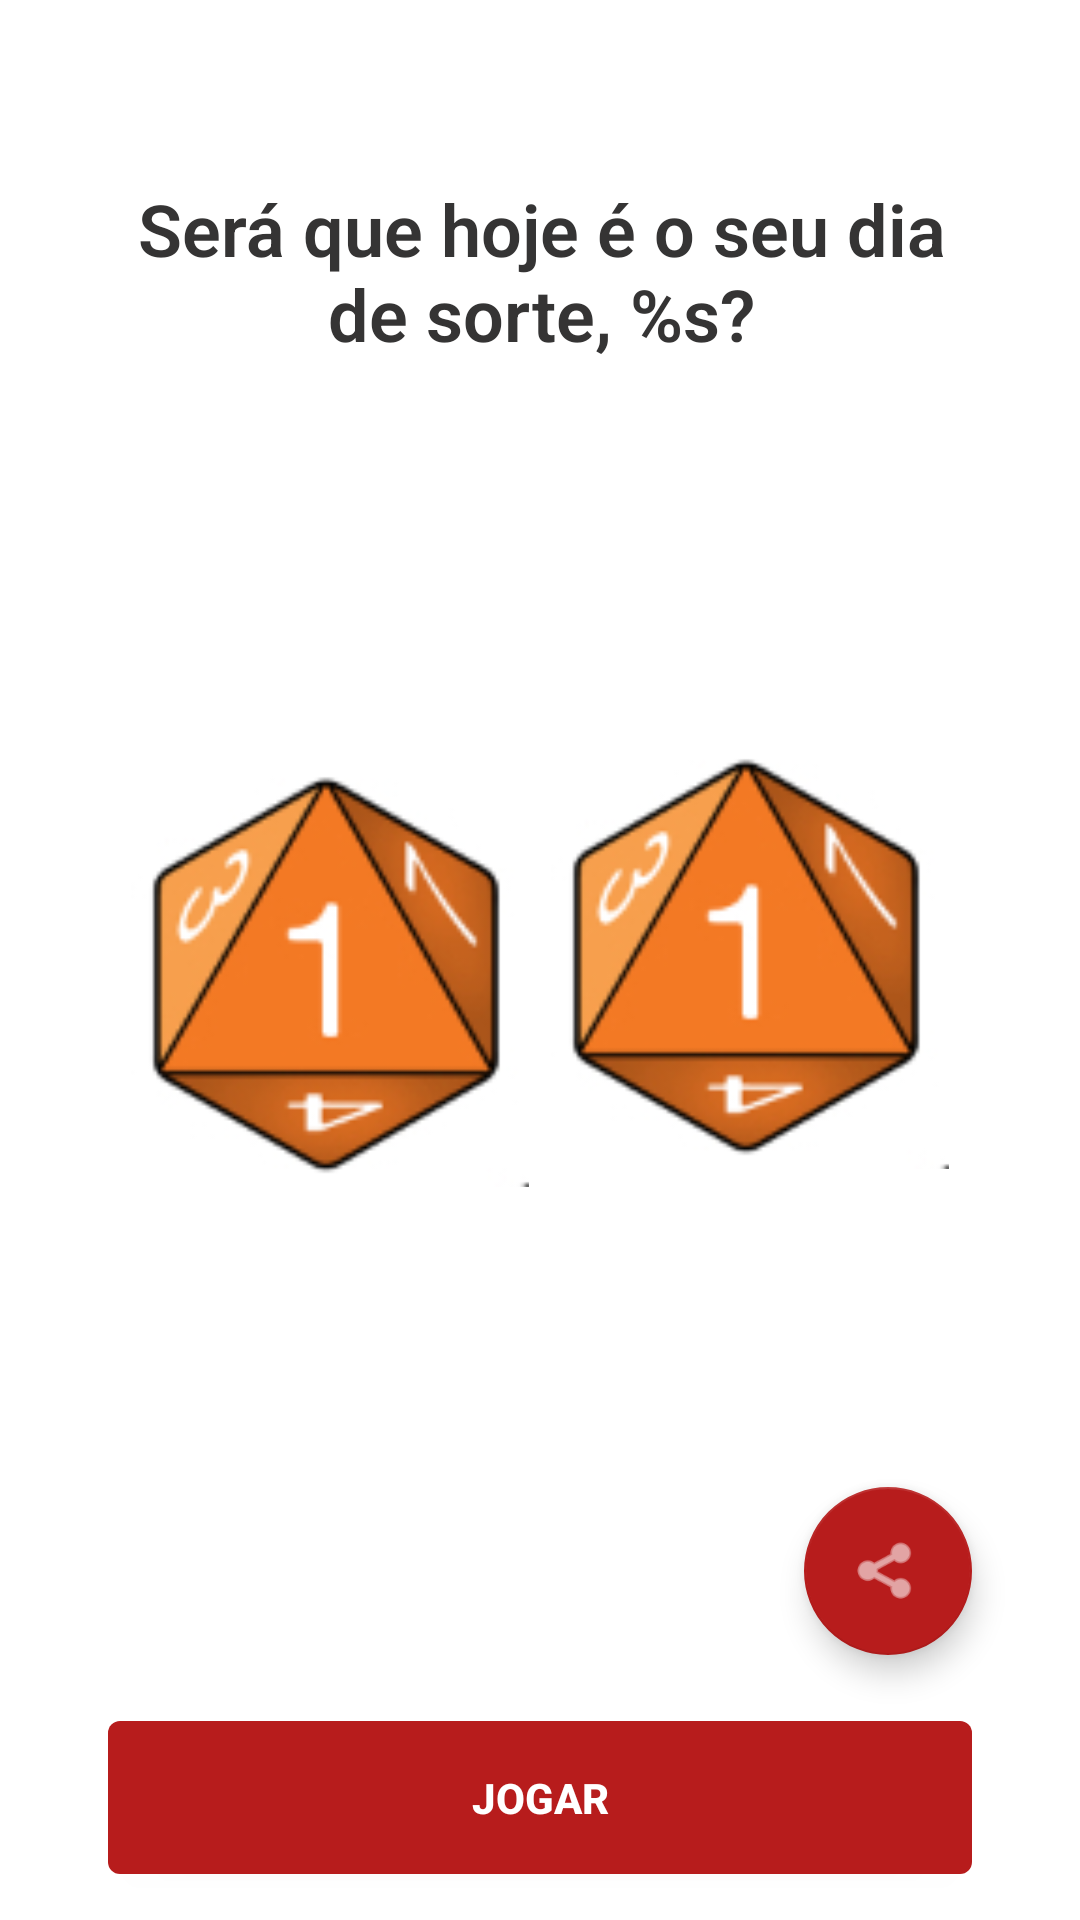

Icon bounding boxes for this 1080px×1920px phone screenshot, format (x1, y1, x2, y2):
share: (804, 1487, 972, 1655)
